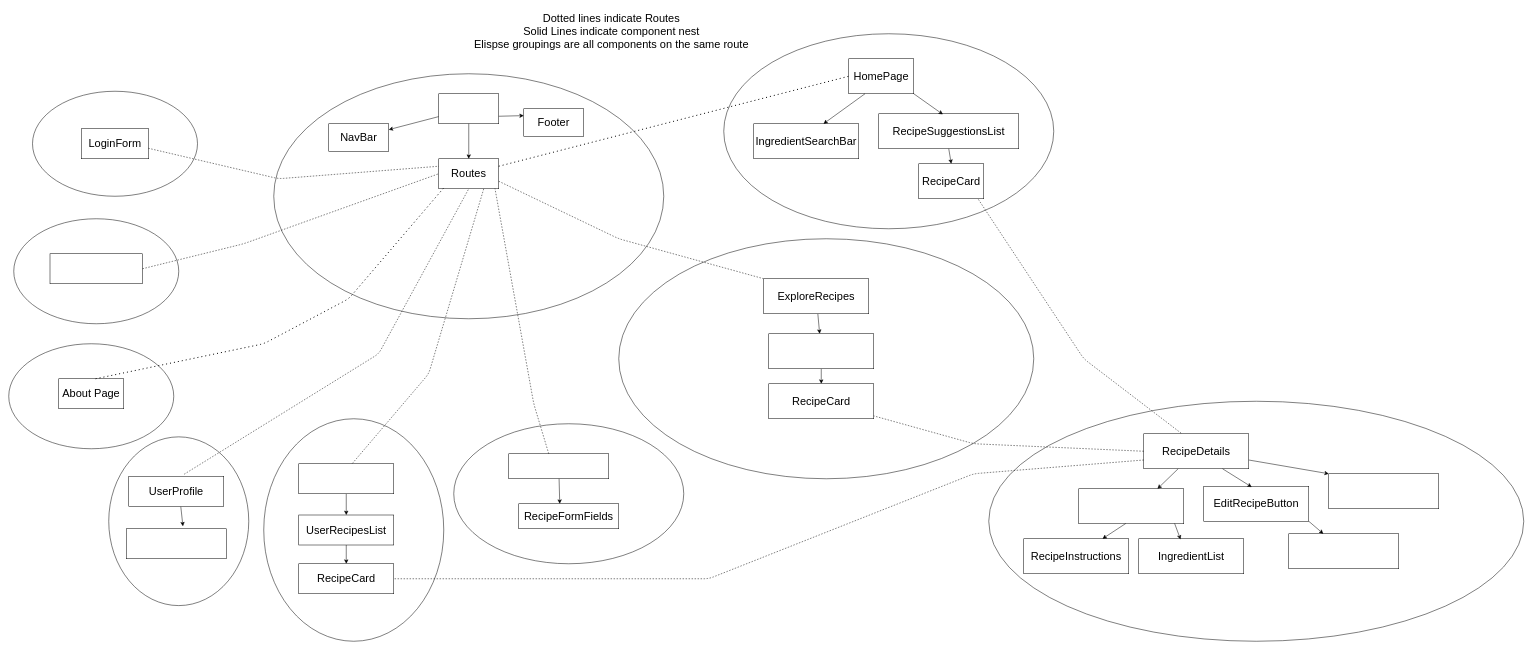
Some shapes in this 1533 by 650 pixel diagram are drawn without their labels. Here are the shapes that lost their labels. From the top down, the centre of each, then its label:
At pixel 468 108: "App".
At pixel 96 268: "RegistrationForm".
At pixel 821 351: "RecipeList".
At pixel 346 478: "MyRecipes".
At pixel 558 466: "CreateRecipeForm".
At pixel 1131 506: "RecipeContent".
At pixel 1383 491: "DeleteRecipeButton".
At pixel 176 543: "UserDetails".
At pixel 1343 551: "EditRecipeForm".
